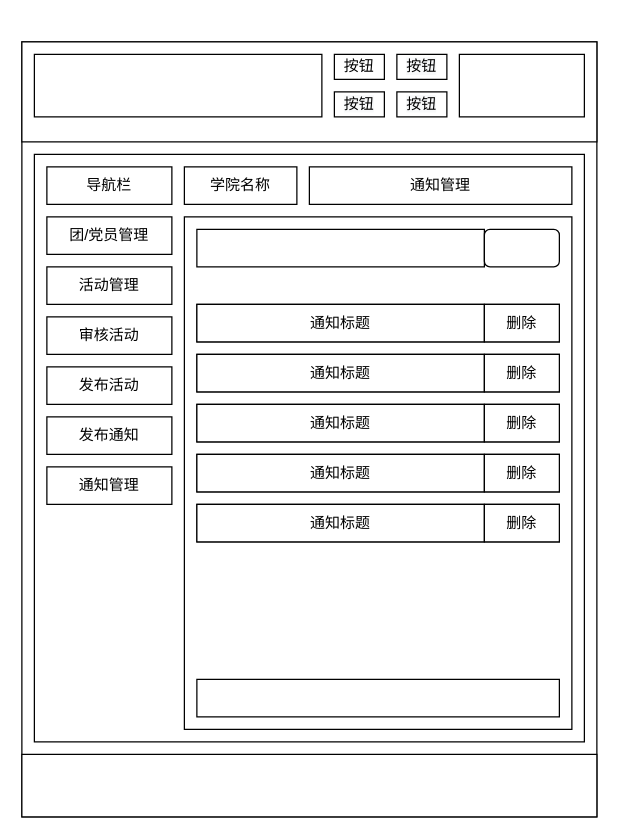
The diagram is 619 pixels wide and 839 high, and some of its shapes have lost their labels. Here are the shapes that lost their labels. From the top down, the centre of each, then its label:
At point (177, 85): "网站标题（文字+图片）".
At point (521, 85): "当前登录学生信息显示（跳转主页）".
At point (521, 247): "搜索".
At point (377, 697): "分页页码".
At point (309, 785): "底部导航栏&联系发邮件".
